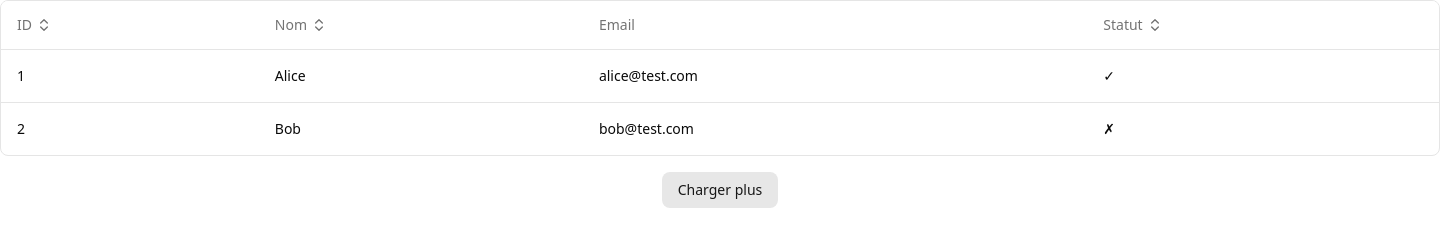
Scenario: DataTable - Infinite Scroll & Load More › showLoadMoreButton › load more button loads additional data when clicked
The image size is (1440, 226).
expect the text "Alice" is shown: met, box [259,49,583,102]
expect the text "Bob" is shown: met, box [259,102,583,154]
# Click load more button
What coordinates should you click on to do the following:
click the button "Charger plus"
I would click on:
 (720, 190)
Its box is [662,172,778,208].
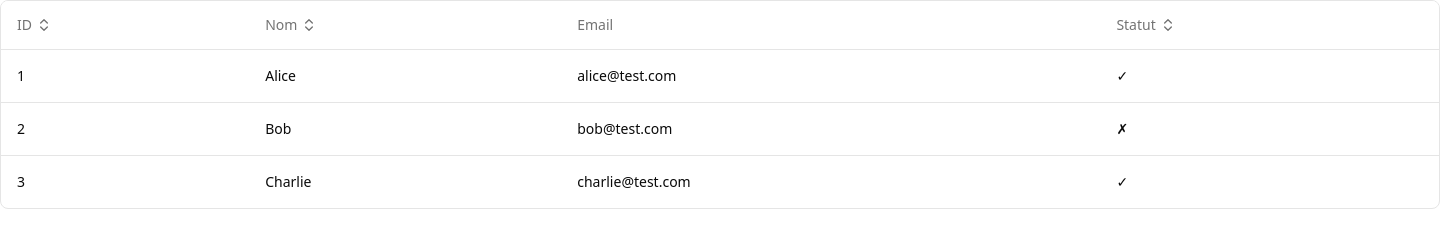
expect the text "Alice" is shown: met, box [249,49,561,102]
expect the text "Charlie" is shown: met, box [249,155,561,208]
